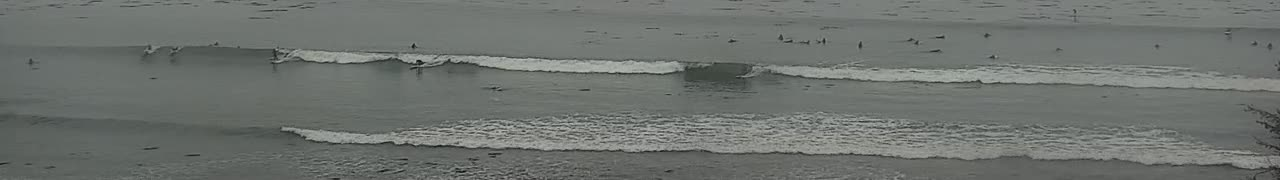Surfer: (266, 46, 288, 65), (407, 56, 430, 71), (141, 42, 159, 57), (1219, 26, 1236, 40), (24, 56, 44, 67), (927, 32, 949, 41), (166, 44, 181, 57), (853, 38, 868, 51), (725, 36, 741, 47), (1053, 45, 1067, 56), (925, 46, 944, 54), (815, 35, 830, 45), (909, 39, 924, 49), (796, 36, 812, 45), (408, 39, 421, 50), (1264, 39, 1275, 52), (1248, 36, 1260, 47), (775, 32, 789, 41), (903, 34, 917, 43), (782, 38, 797, 46), (985, 52, 1000, 60), (982, 31, 994, 40), (1071, 7, 1078, 15)
